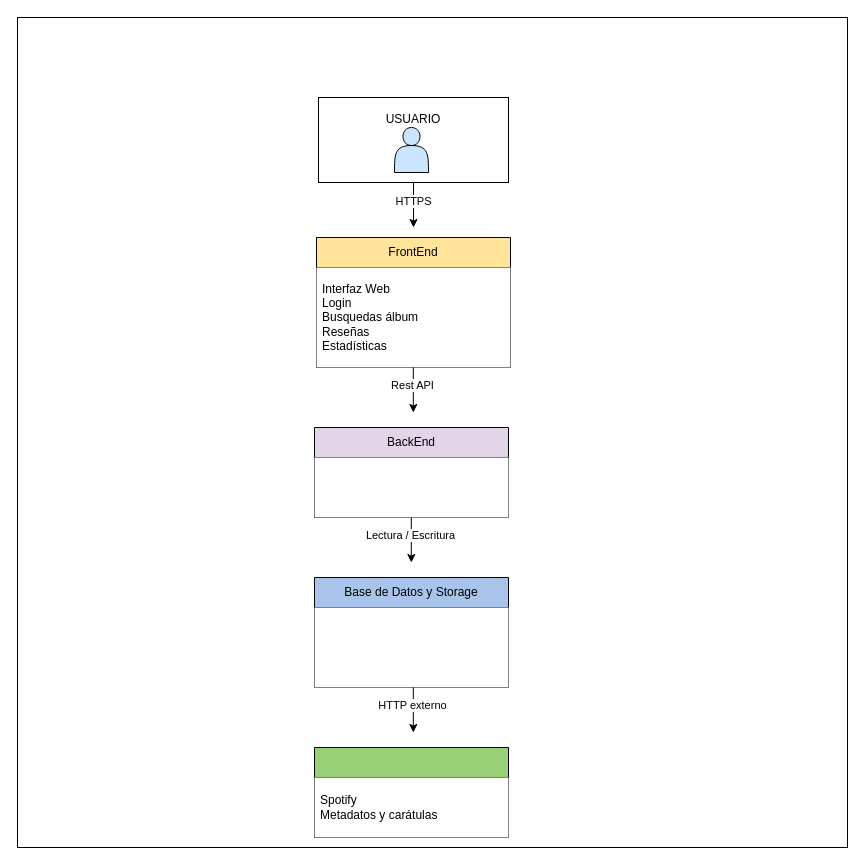
Some shapes in this 865 by 865 pixel diagram are drawn without their labels. Here are the shapes that lost their labels. From the top down, the box of each, then its label:
(314, 457, 508, 517): Servidor Logica de aplicación Endpoints
(314, 607, 508, 687): Usuarios Reseñas Ratings Imágenes de perfil
(314, 746, 508, 838): APIs Externas
